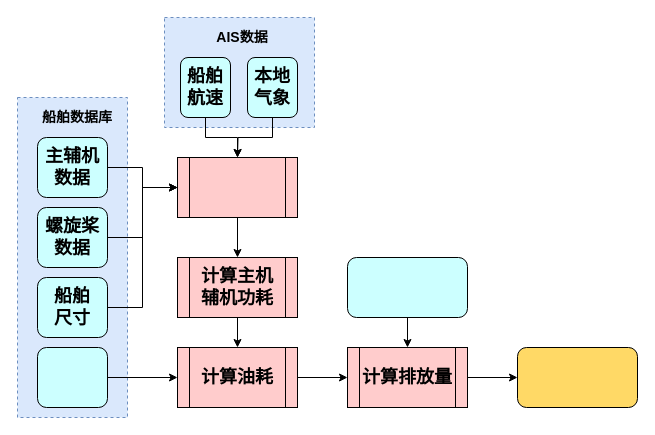
This 655x435 diagram has some shape labels left out. Here are the shapes that lost their labels. From the top down, the box of each, then its label:
(176, 156, 298, 218): 计算阻力
(346, 256, 468, 318): 各污染物 排放因子
(36, 346, 108, 408): 油料 信息
(516, 346, 638, 408): 污染物组份 排放量
